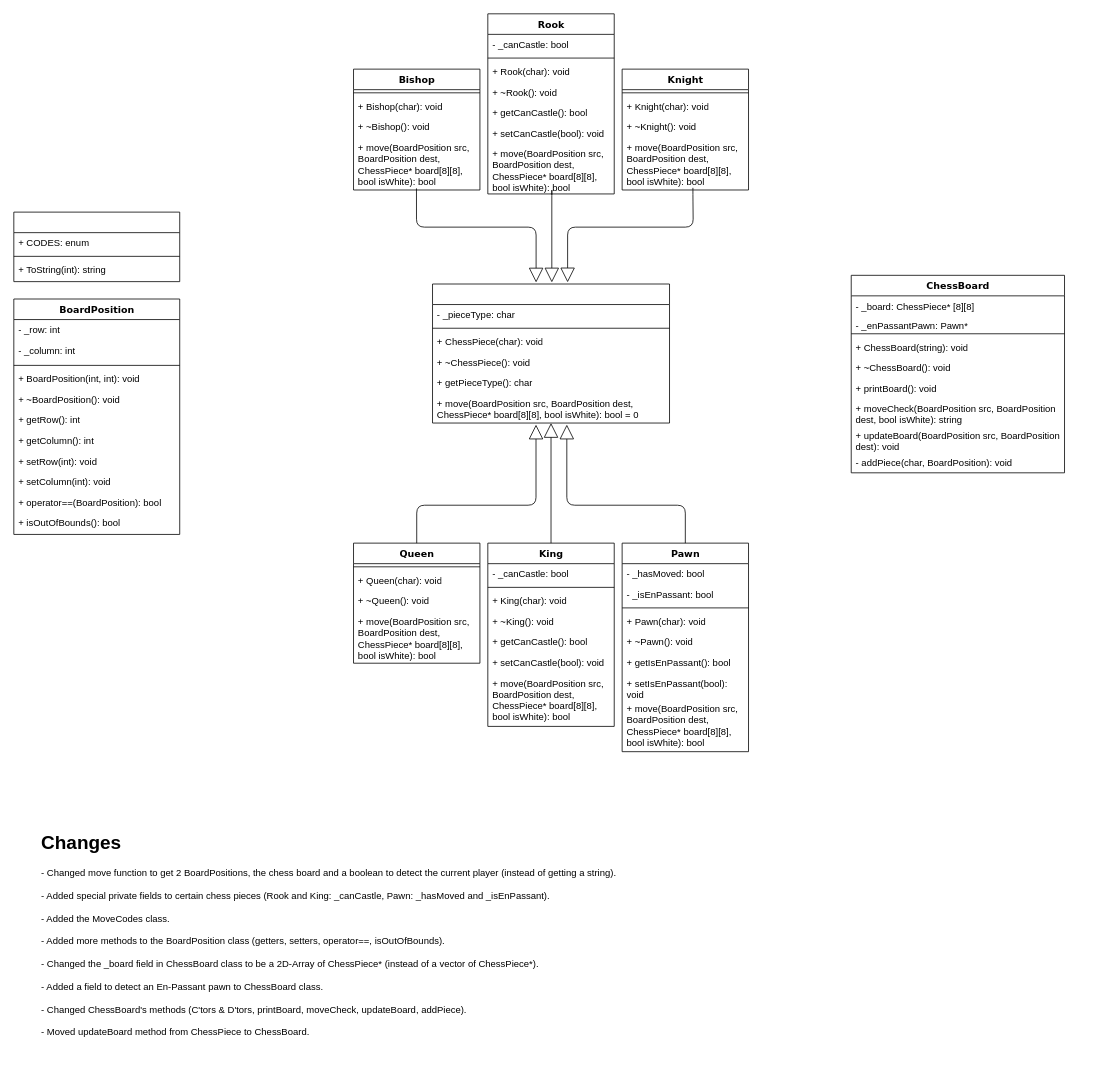
Some shapes in this 1094 by 1086 pixel diagram are drawn without their labels. Here are the shapes that lost their labels. From the top down, the box of each, then its label:
(13, 211, 180, 282): MoveCodes
(432, 283, 670, 423): ChessPiece {ABS}
